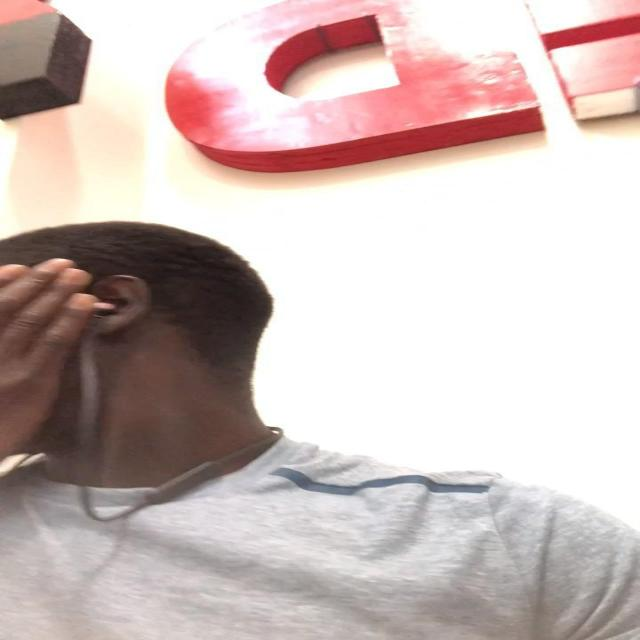face: (1, 240, 124, 460)
